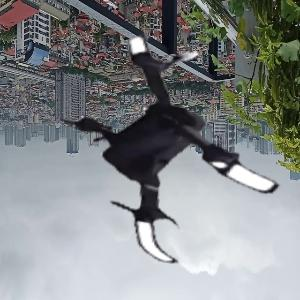drone: (34, 12, 291, 269)
